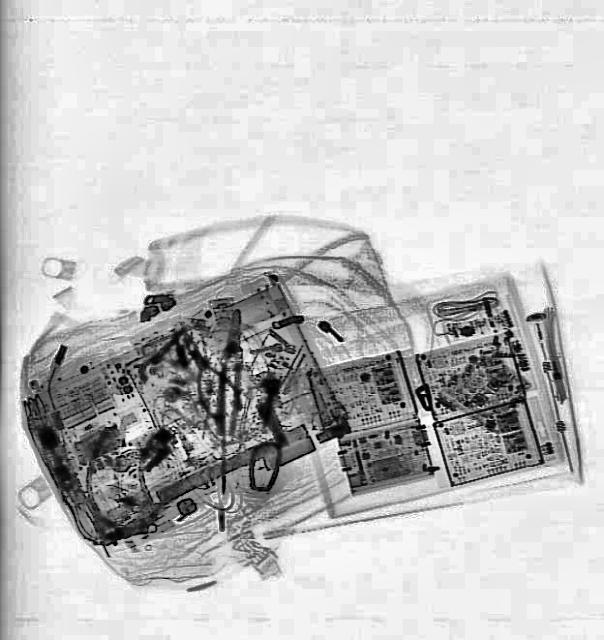Pliers: (166, 324, 246, 424), (212, 308, 246, 438)
